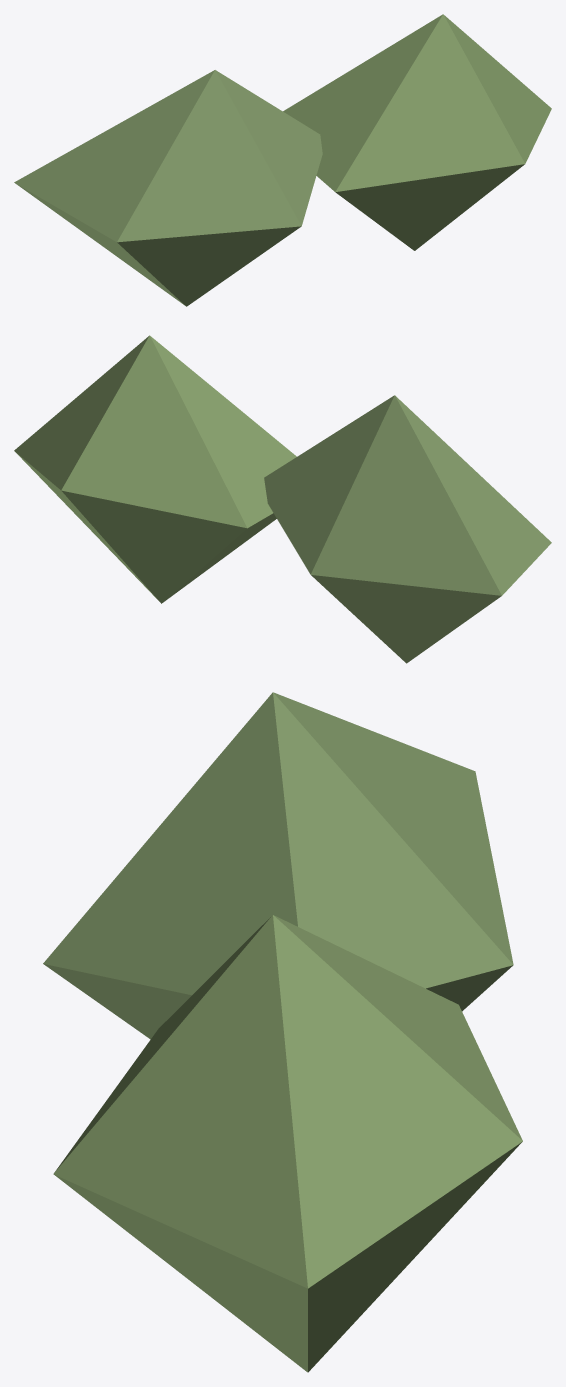
The picture shows the model from 3 angles, top to bottom: view 1: azimuth 30°, elevation 25°; view 2: azimuth 150°, elevation 25°; view 3: azimuth 270°, elevation 25°; orthographic projection. The views are drawn at different scales.
Size of the model in its own units: 3.26 by 1.5 by 1.37.
